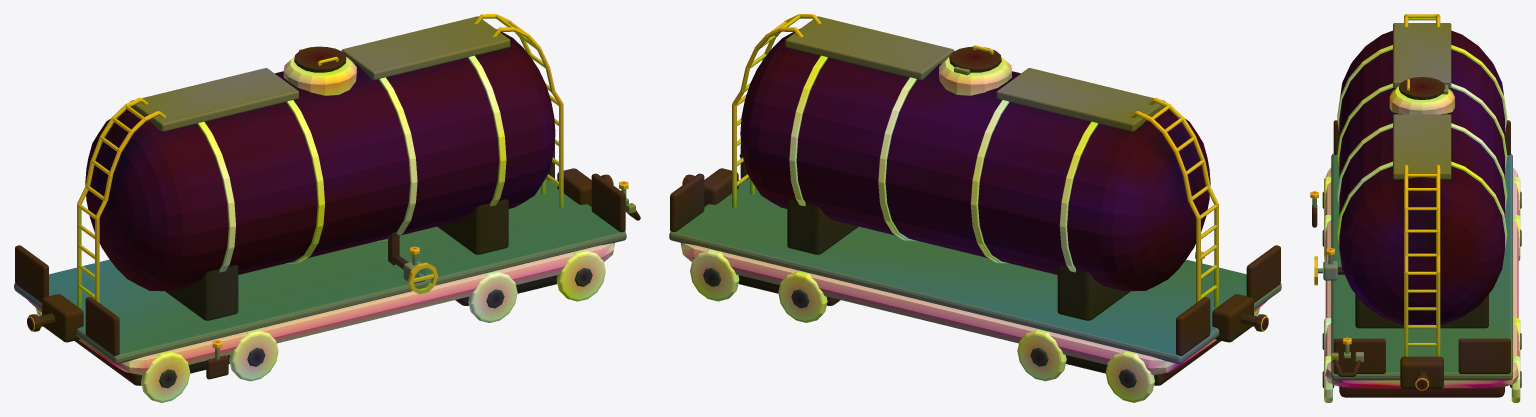
Rendered from TankWagon_Blockout.fbx.
The picture shows the model from 3 angles, left to right: view 1: azimuth 30°, elevation 25°; view 2: azimuth 150°, elevation 25°; view 3: azimuth 270°, elevation 25°; orthographic projection. The views are drawn at different scales.
Visible parts, largest first — view 1: Body, Deck, Underframe, Roof, RoofLadder, TankHatch, ValvePipe, Fixed_Rail__Valve; view 2: Body, Deck, Underframe, Roof, RoofLadder, TankHatch; view 3: Body, Deck, Roof, Underframe, RoofLadder, TankHatch, ValvePipe, Coupler_Front, Fixed_Rail__BrakeHose, Ends.
Part boxes in pixels (bbox=[...]): Body: bbox=[85, 29, 555, 320]; Deck: bbox=[14, 144, 626, 363]; Underframe: bbox=[28, 243, 614, 402]; Roof: bbox=[130, 16, 510, 131]; RoofLadder: bbox=[77, 14, 563, 307]; TankHatch: bbox=[294, 46, 346, 71]; ValvePipe: bbox=[388, 232, 425, 283]; Fixed_Rail__Valve: bbox=[408, 262, 438, 294]; Body: bbox=[740, 28, 1210, 320]; Deck: bbox=[669, 144, 1281, 363]; Underframe: bbox=[681, 243, 1267, 402]; Roof: bbox=[785, 16, 1165, 131]; RoofLadder: bbox=[732, 14, 1218, 307]; TankHatch: bbox=[949, 45, 1001, 75]; Body: bbox=[1337, 30, 1507, 328]; Deck: bbox=[1331, 120, 1512, 388]; Roof: bbox=[1389, 23, 1454, 179]; Underframe: bbox=[1322, 167, 1521, 402]; RoofLadder: bbox=[1404, 14, 1440, 356]; TankHatch: bbox=[1399, 77, 1448, 99]; ValvePipe: bbox=[1323, 261, 1344, 280]; Coupler_Front: bbox=[1414, 370, 1429, 390]; Fixed_Rail__BrakeHose: bbox=[1333, 359, 1361, 376]; Ends: bbox=[1331, 352, 1363, 362].
Bounding box in the file's own units: 8.16 × 3.47 × 2.91.
